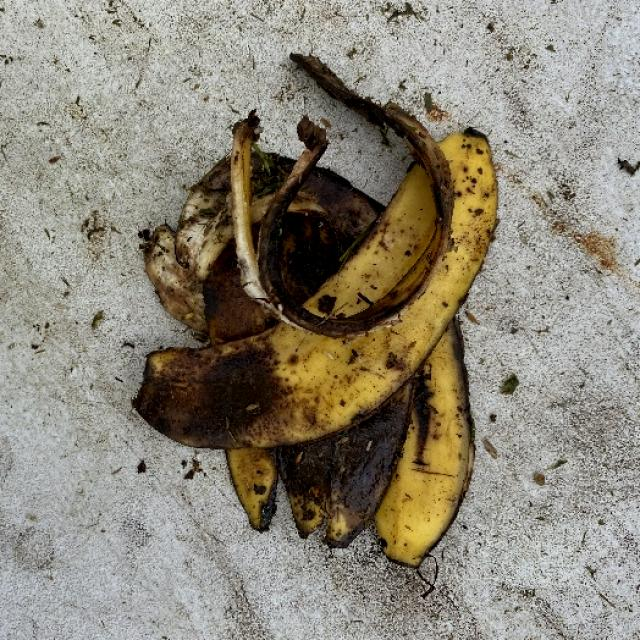wet: (130, 46, 496, 566)
